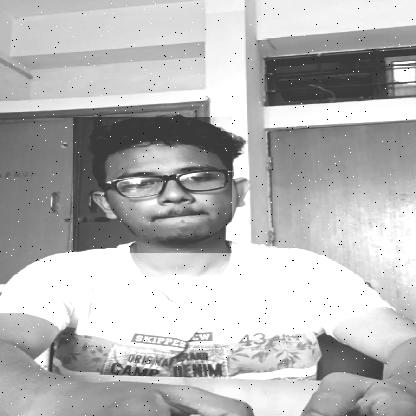Normal: (73, 117, 232, 253)
